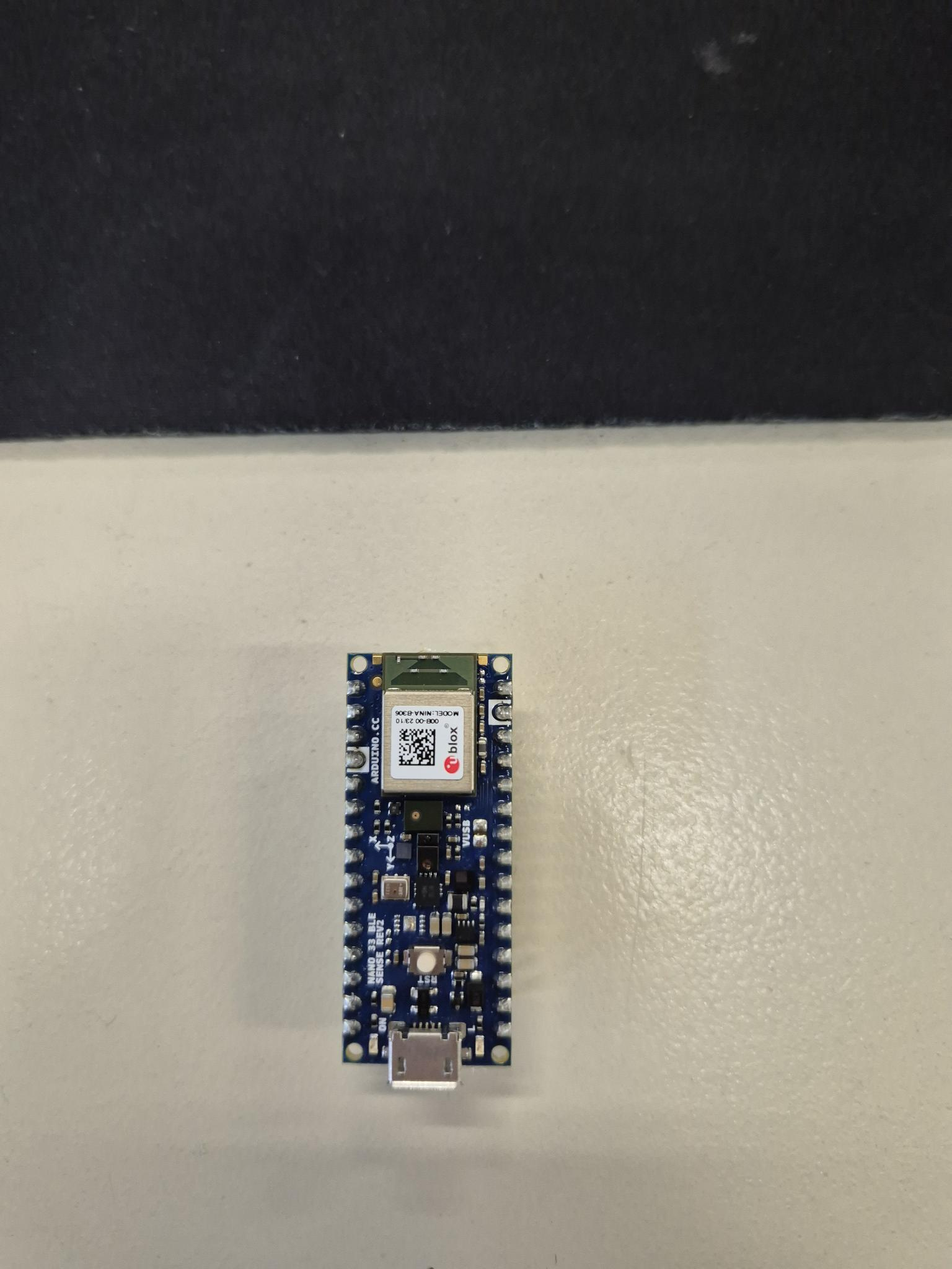arduino-nano-ble-sense: (343, 653, 512, 1089)
